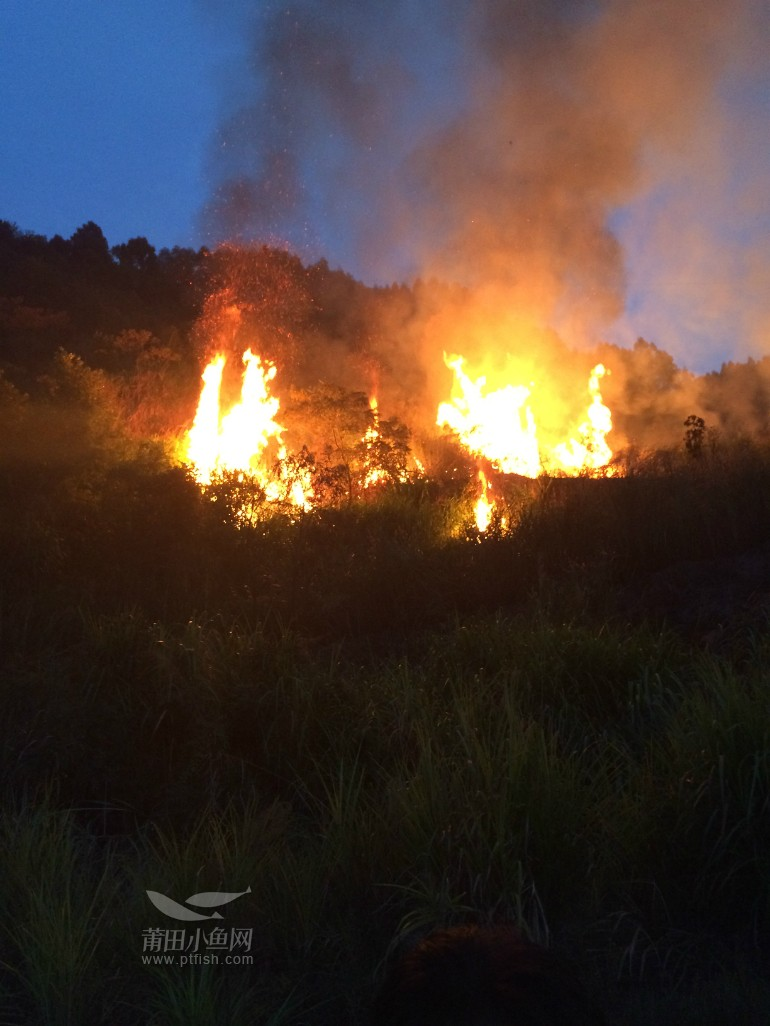fire: (418, 325, 636, 481), (180, 313, 318, 512), (457, 471, 520, 542)
